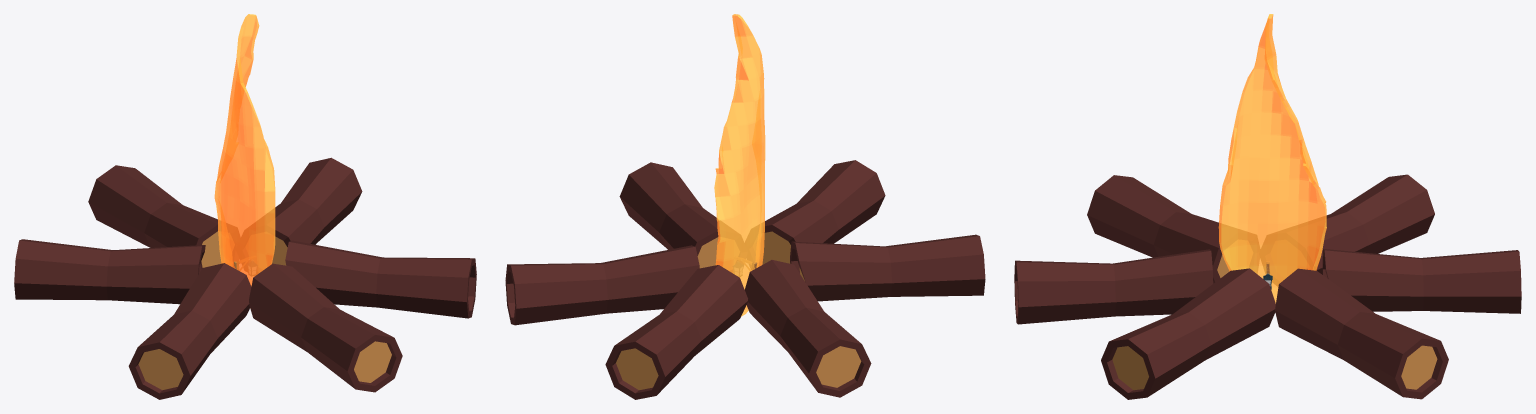
Rendered from lights.glb.
The picture shows the model from 3 angles, left to right: view 1: azimuth 30°, elevation 25°; view 2: azimuth 150°, elevation 25°; view 3: azimuth 270°, elevation 25°; orthographic projection. The views are drawn at different scales.
Visible parts, largest first — view 1: Tronco 5_1_0, Fuego_3_0, Tronco 3_1_0, Tronco 2_1_0, Tronco 1_1_0, Tronco 4.001_1_0, Tronco 4_1_0, Tronco 1_2_0, Tronco 2_2_0, Tronco 4.001_2_0; view 2: Tronco 1_1_0, Tronco 4_1_0, Fuego_3_0, Tronco 4.001_1_0, Tronco 5_1_0, Tronco 2_1_0, Tronco 3_1_0, Tronco 5_2_0, Tronco 4.001_2_0, Tronco 2_2_0, Tronco 3_2_0; view 3: Fuego_3_0, Tronco 2_1_0, Tronco 4.001_1_0, Tronco 4_1_0, Tronco 3_1_0, Tronco 1_1_0, Tronco 5_1_0, Tronco 3_2_0, Tronco 4_2_0.
Part boxes in pixels (left/top/right/bottom): Tronco 5_1_0: left=14, top=239, right=205, bottom=304; Fuego_3_0: left=214, top=14, right=275, bottom=286; Tronco 3_1_0: left=285, top=240, right=476, bottom=318; Tronco 2_1_0: left=249, top=263, right=402, bottom=392; Tronco 1_1_0: left=128, top=263, right=251, bottom=399; Tronco 4.001_1_0: left=88, top=165, right=217, bottom=247; Tronco 4_1_0: left=275, top=157, right=362, bottom=246; Tronco 1_2_0: left=138, top=349, right=183, bottom=390; Tronco 2_2_0: left=354, top=341, right=391, bottom=382; Tronco 4.001_2_0: left=201, top=231, right=221, bottom=267; Tronco 1_1_0: left=790, top=234, right=985, bottom=301; Tronco 4_1_0: left=505, top=245, right=699, bottom=325; Fuego_3_0: left=714, top=14, right=765, bottom=316; Tronco 4.001_1_0: left=605, top=265, right=747, bottom=399; Tronco 5_1_0: left=745, top=260, right=871, bottom=397; Tronco 2_1_0: left=764, top=160, right=885, bottom=244; Tronco 3_1_0: left=619, top=162, right=718, bottom=255; Tronco 5_2_0: left=816, top=346, right=861, bottom=387; Tronco 4.001_2_0: left=616, top=348, right=658, bottom=390; Tronco 2_2_0: left=762, top=231, right=790, bottom=264; Tronco 3_2_0: left=697, top=237, right=718, bottom=268; Fuego_3_0: left=1218, top=14, right=1326, bottom=303; Tronco 2_1_0: left=1014, top=249, right=1213, bottom=324; Tronco 4.001_1_0: left=1322, top=249, right=1521, bottom=313; Tronco 4_1_0: left=1275, top=268, right=1448, bottom=399; Tronco 3_1_0: left=1101, top=268, right=1275, bottom=399; Tronco 1_1_0: left=1087, top=175, right=1222, bottom=283; Tronco 5_1_0: left=1316, top=174, right=1434, bottom=274; Tronco 3_2_0: left=1112, top=346, right=1148, bottom=390; Tronco 4_2_0: left=1401, top=345, right=1437, bottom=389.
Bounding box in the file's own units: 15.43 × 12.04 × 18.06.
Materials: 4 (1 with a texture image).
